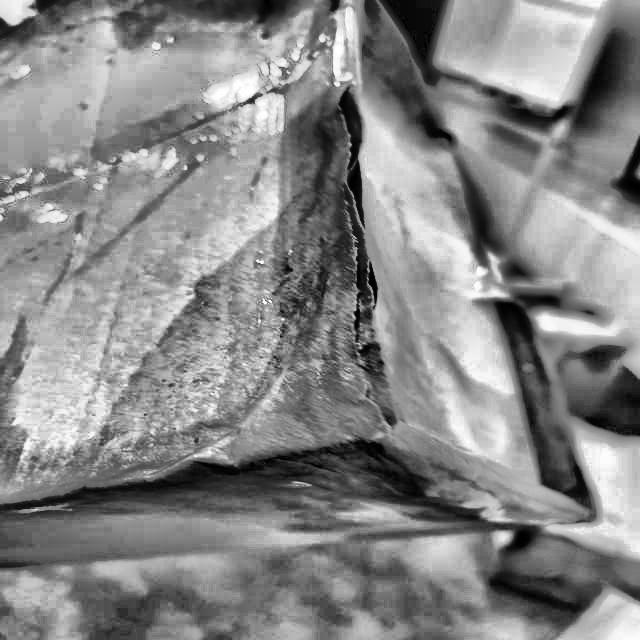box: (0, 0, 605, 569)
wet: (126, 85, 419, 481)
